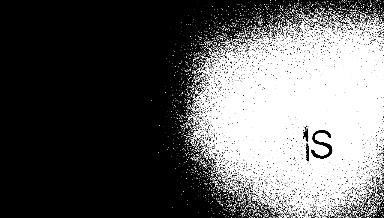S: (307, 124, 337, 160)
